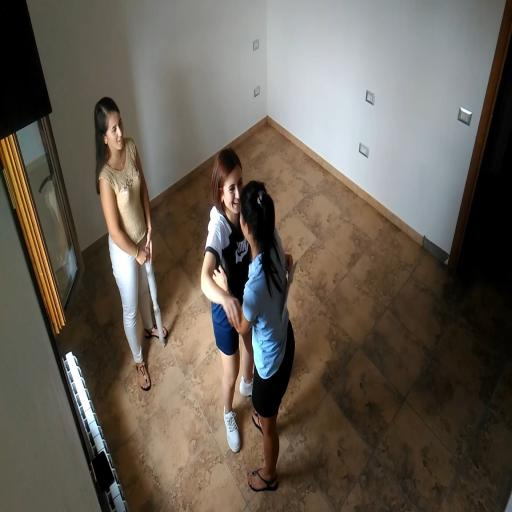nao-violencia: (187, 138, 307, 500)
